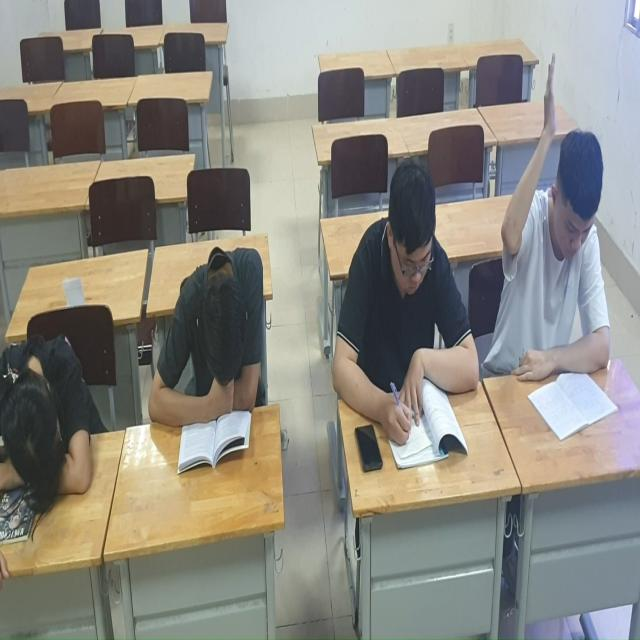raise_hand: (498, 45, 639, 448)
read: (330, 140, 488, 480), (157, 229, 273, 472)
sleep: (1, 295, 101, 524)
